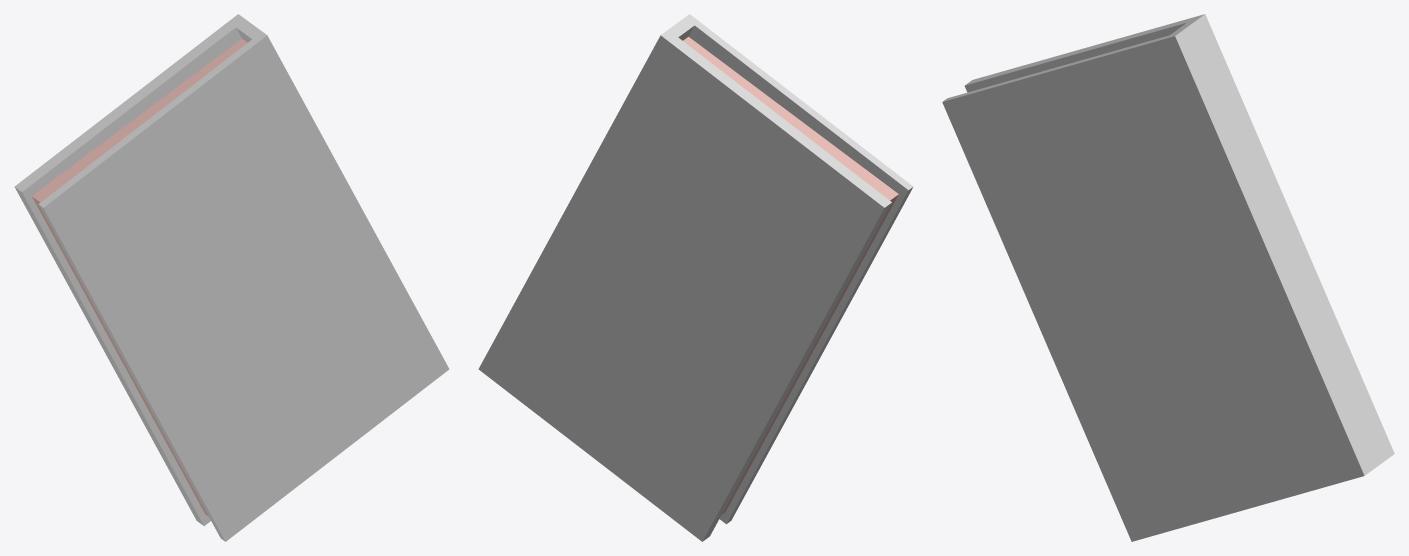
Rendered from Diary.fbx.
The picture shows the model from 3 angles, left to right: view 1: azimuth 30°, elevation 25°; view 2: azimuth 150°, elevation 25°; view 3: azimuth 330°, elevation 25°; orthographic projection. The views are drawn at different scales.
Parts seen in each view (by area): view 1: Diary.001; view 2: Diary.001; view 3: Diary.001.
Part boxes in pixels (left/top/right/bottom): Diary.001: left=14, top=14, right=449, bottom=541; Diary.001: left=478, top=14, right=913, bottom=541; Diary.001: left=942, top=14, right=1394, bottom=541.
Size of the model in its own units: 324 by 378 by 40.12.
